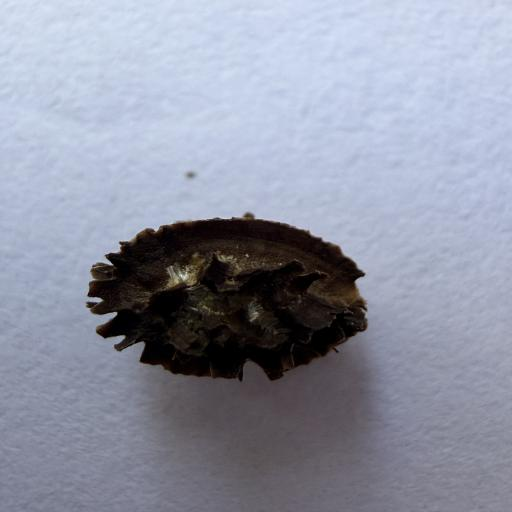papaya_seed: (79, 204, 409, 390)
